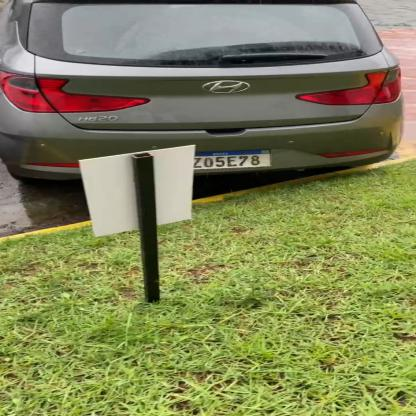Plate: (198, 147, 274, 169)
